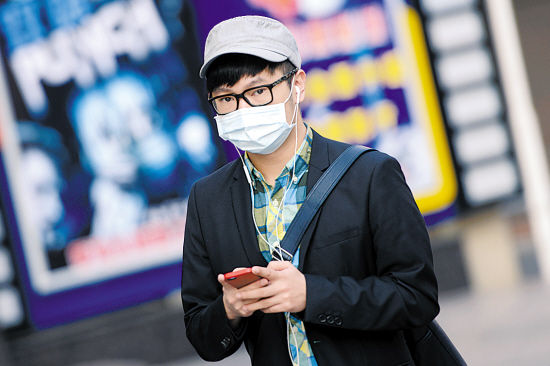face_mask: (213, 59, 294, 155)
